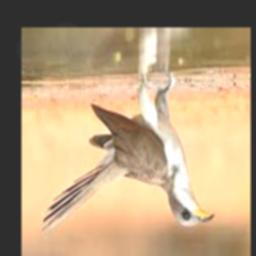Cuckoo: (42, 78, 215, 236)
